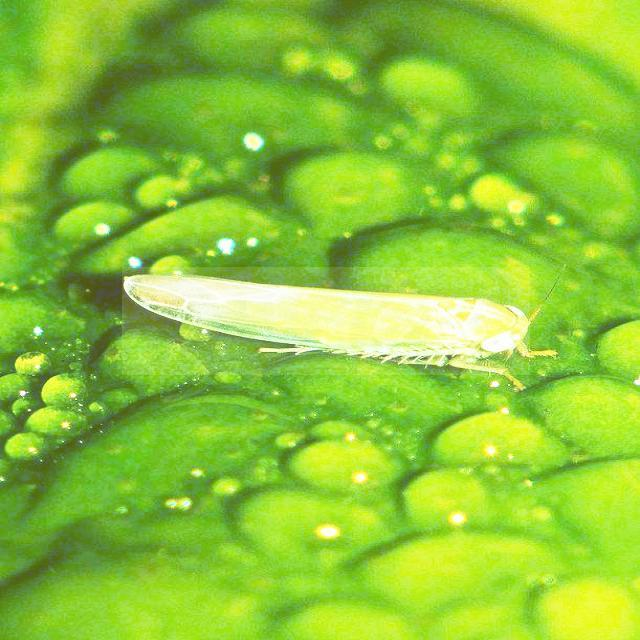green-leafhopper: (123, 267, 531, 375)
